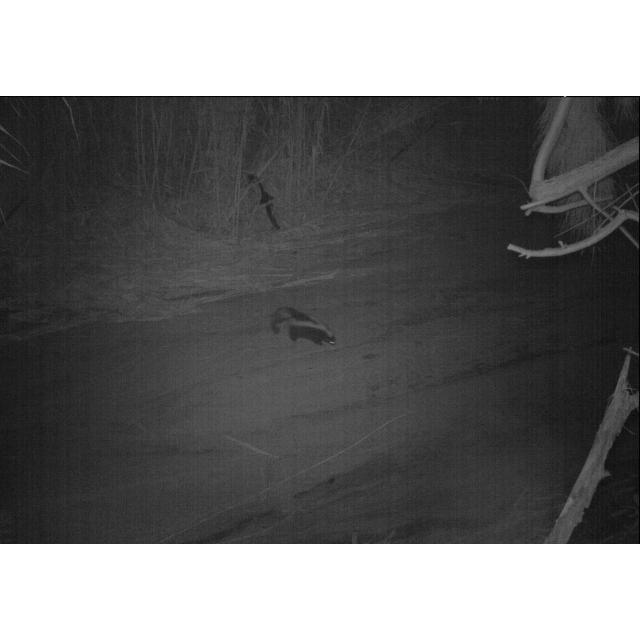animals: (270, 302, 340, 351)
